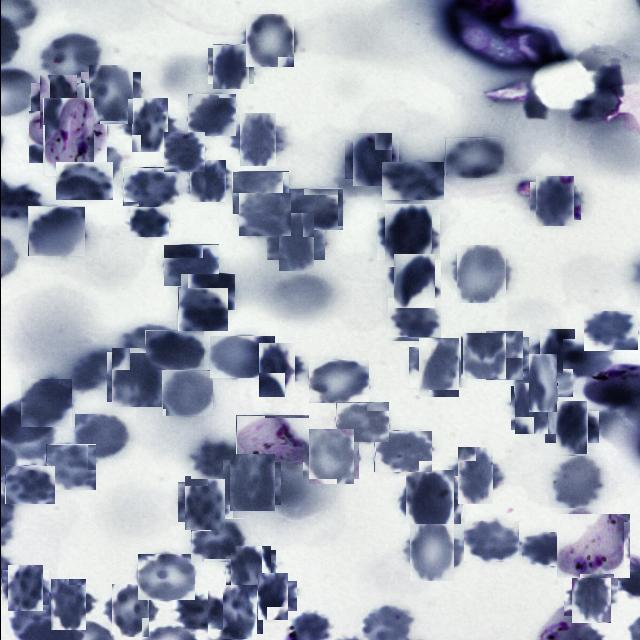red blood cell: (402, 472, 457, 528), (380, 208, 435, 264), (547, 456, 606, 508), (108, 350, 164, 404), (453, 247, 508, 300), (27, 206, 84, 256), (39, 33, 99, 80), (209, 336, 274, 378), (84, 68, 136, 120), (225, 457, 278, 508), (137, 554, 194, 600), (406, 526, 456, 578), (308, 360, 368, 403), (243, 15, 294, 65), (19, 378, 71, 427), (412, 342, 462, 392), (306, 432, 356, 482), (231, 171, 288, 214), (210, 587, 259, 637), (374, 430, 432, 472), (284, 188, 342, 230), (74, 414, 128, 459), (444, 137, 503, 178), (386, 297, 440, 341), (190, 518, 244, 562), (144, 330, 203, 370), (381, 162, 443, 200), (162, 244, 218, 286), (161, 370, 212, 416), (512, 384, 560, 432), (389, 257, 437, 305), (45, 444, 95, 490), (567, 572, 614, 620), (181, 478, 228, 526), (238, 193, 290, 236), (272, 218, 318, 266), (463, 521, 518, 561), (177, 287, 227, 331), (122, 167, 178, 206), (55, 162, 112, 200), (583, 312, 637, 352), (335, 402, 388, 442), (106, 588, 152, 634), (234, 116, 280, 162), (452, 453, 498, 499), (348, 136, 394, 182), (34, 79, 80, 125), (186, 93, 235, 136), (127, 102, 172, 148), (190, 440, 243, 479), (179, 273, 234, 310), (254, 347, 299, 392), (532, 178, 576, 224), (460, 334, 506, 378), (66, 149, 121, 185), (4, 465, 54, 504), (562, 339, 612, 378), (482, 334, 526, 378), (46, 583, 90, 627), (228, 548, 272, 592), (521, 361, 564, 405), (550, 406, 592, 449), (536, 331, 577, 372), (4, 567, 45, 608), (176, 594, 222, 630), (210, 46, 251, 86), (163, 132, 204, 172), (187, 162, 227, 202), (253, 576, 292, 616), (521, 532, 565, 566), (128, 206, 168, 237)
trophozoite: (558, 511, 627, 580), (34, 105, 100, 170), (235, 415, 308, 462)
